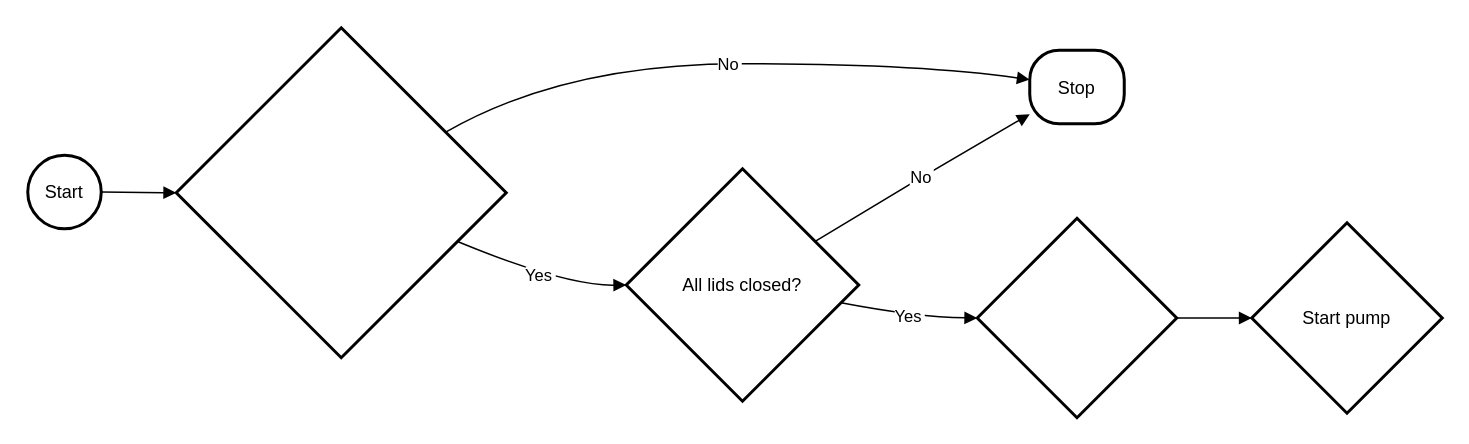
The diagram is 1469 pixels wide and 444 high, and some of its shapes have lost their labels. The shapes that lost their labels are listed below. From the top down, each one's centre as x and y in pixels, then its label:
[340,192]: Both liquid containers present?
[1076,317]: Start heater
